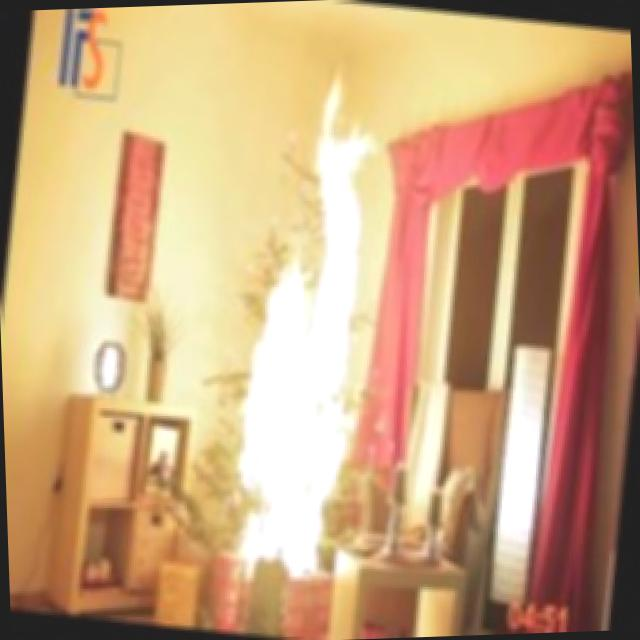fire: (188, 54, 422, 592)
